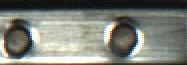joints: (103, 16, 144, 62), (0, 16, 36, 61)
